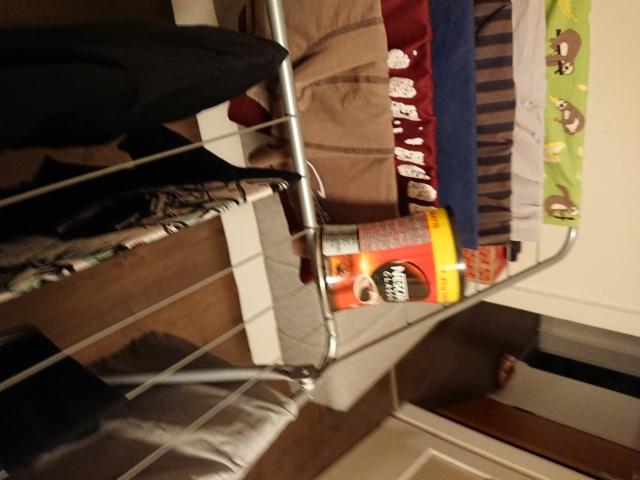Nescafe Classic 225g: (312, 203, 469, 317)
